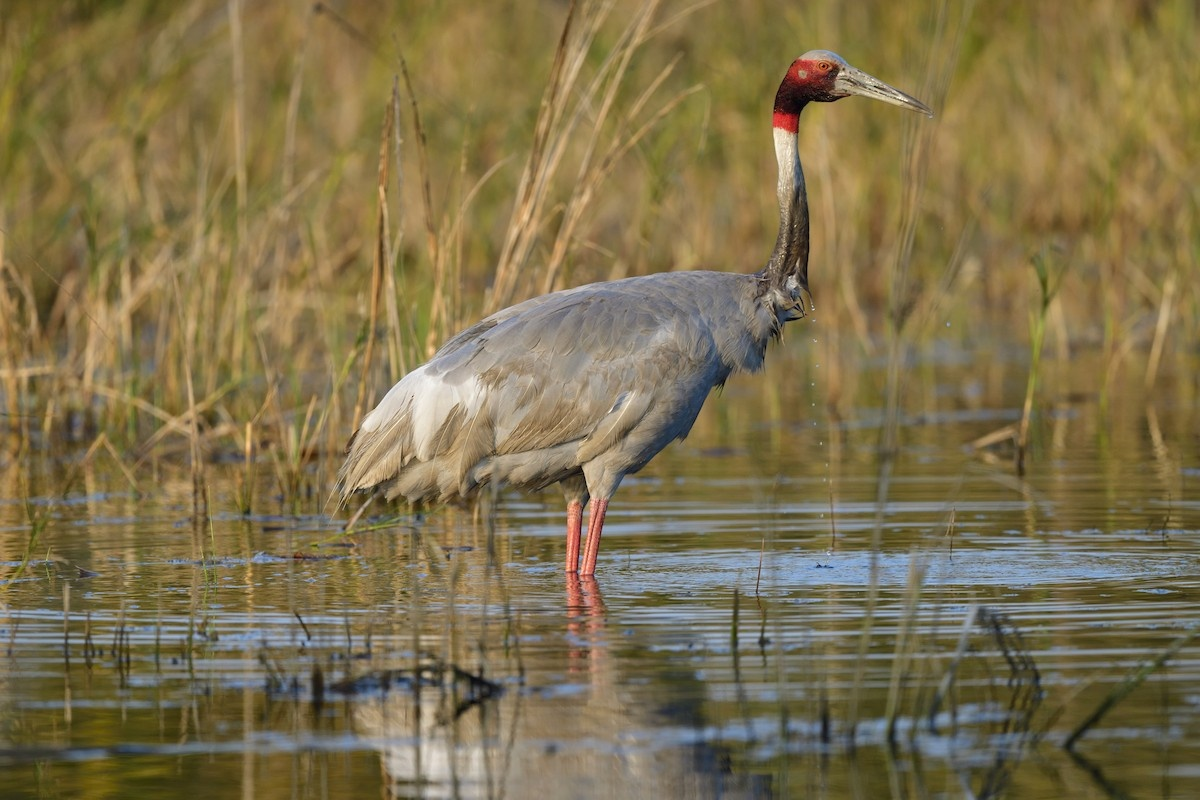crane: (354, 45, 932, 593)
